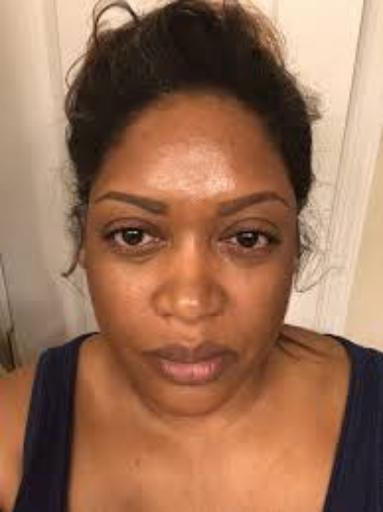left_eye: (220, 227, 279, 255)
left_lip_corner: (220, 342, 239, 363)
right_eye: (104, 224, 165, 251)
right_lip_corner: (137, 344, 160, 362)
